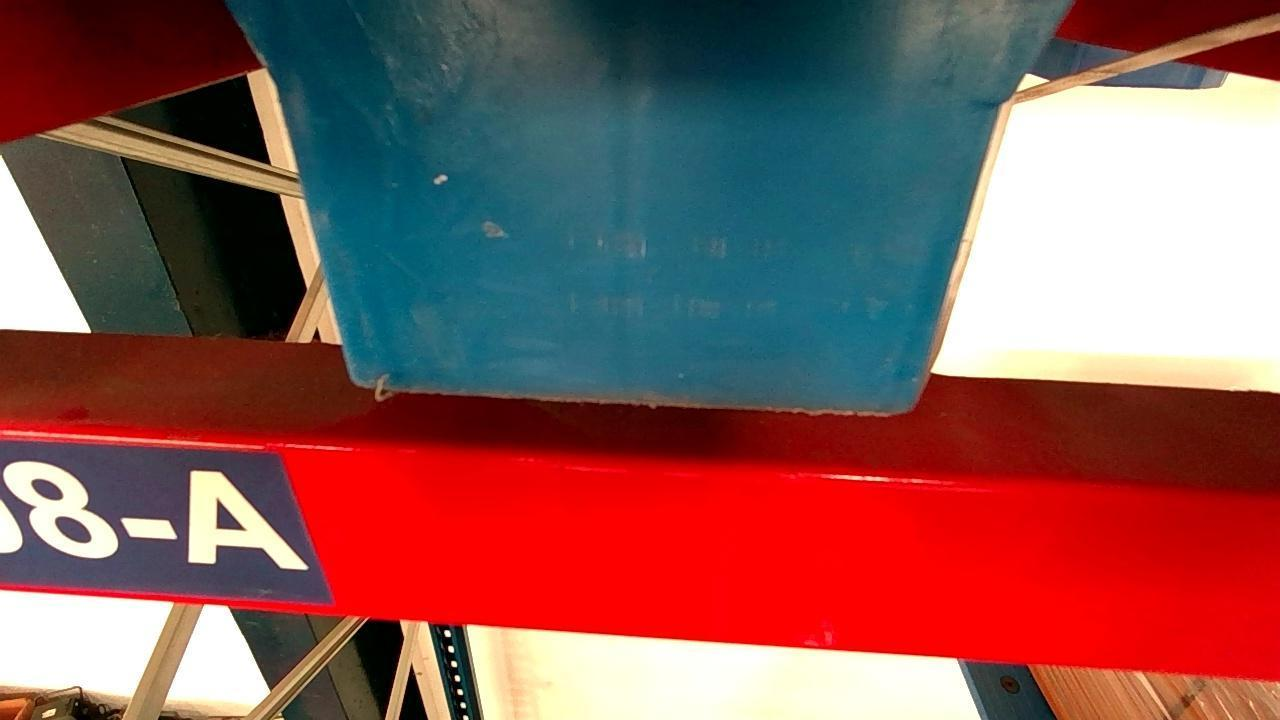h_rack: (0, 432, 1280, 682)
